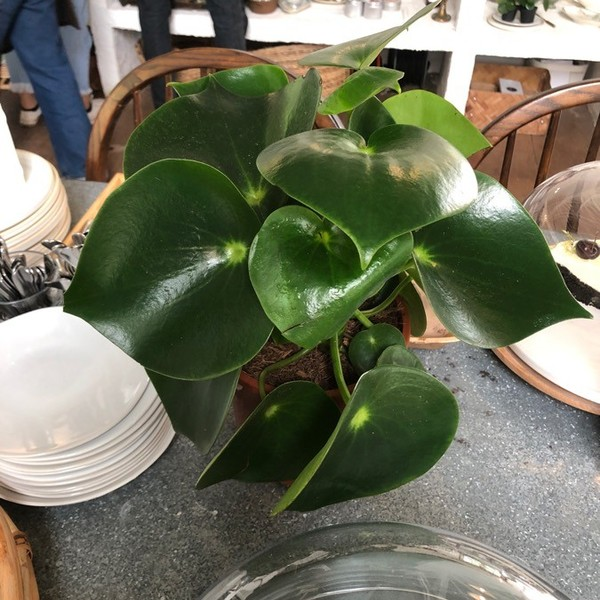obstacle: (76, 36, 539, 511)
